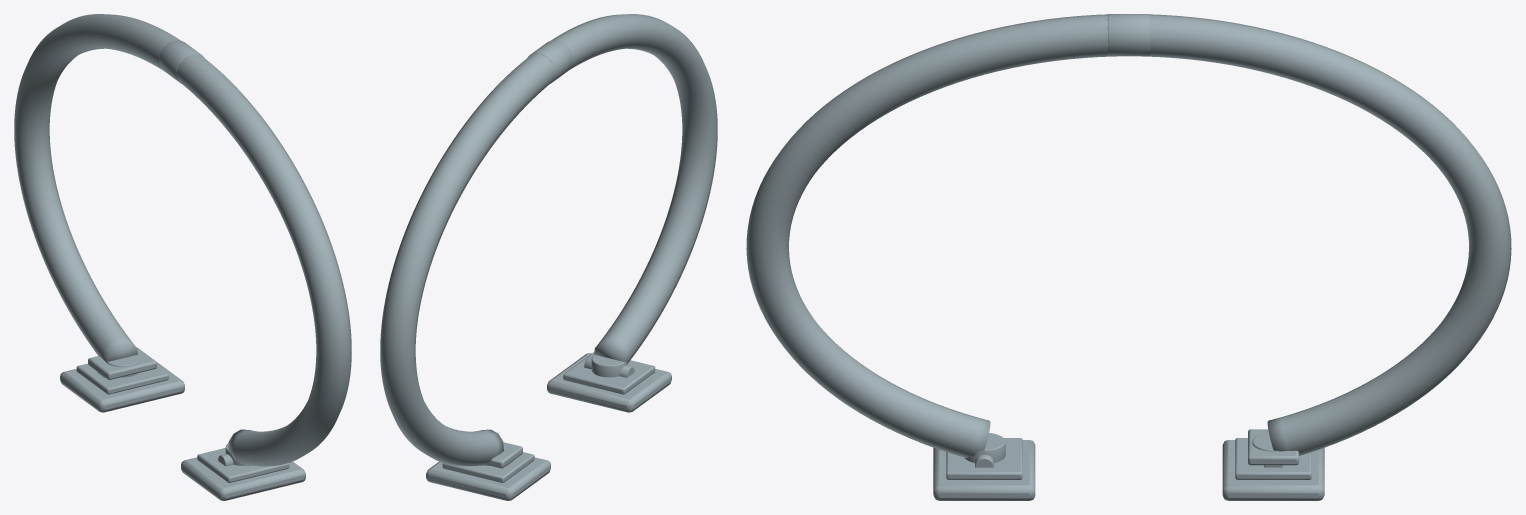
Rendered from 15-left-open-metal-ring.fbx.
The picture shows the model from 3 angles, left to right: view 1: azimuth 30°, elevation 25°; view 2: azimuth 150°, elevation 25°; view 3: azimuth 270°, elevation 25°; orthographic projection. The views are drawn at different scales.
Parts seen in each view (by area): view 1: left-open-metal-ring; view 2: left-open-metal-ring; view 3: left-open-metal-ring.
Boxes of the visible parts, x1,y1,x2,y2 form: left-open-metal-ring: [14, 14, 351, 500]; left-open-metal-ring: [380, 14, 717, 500]; left-open-metal-ring: [746, 14, 1511, 500].
Size of the model in its own units: 1400 by 6000 by 9000.
Materials: 1 (1 with a texture image).
